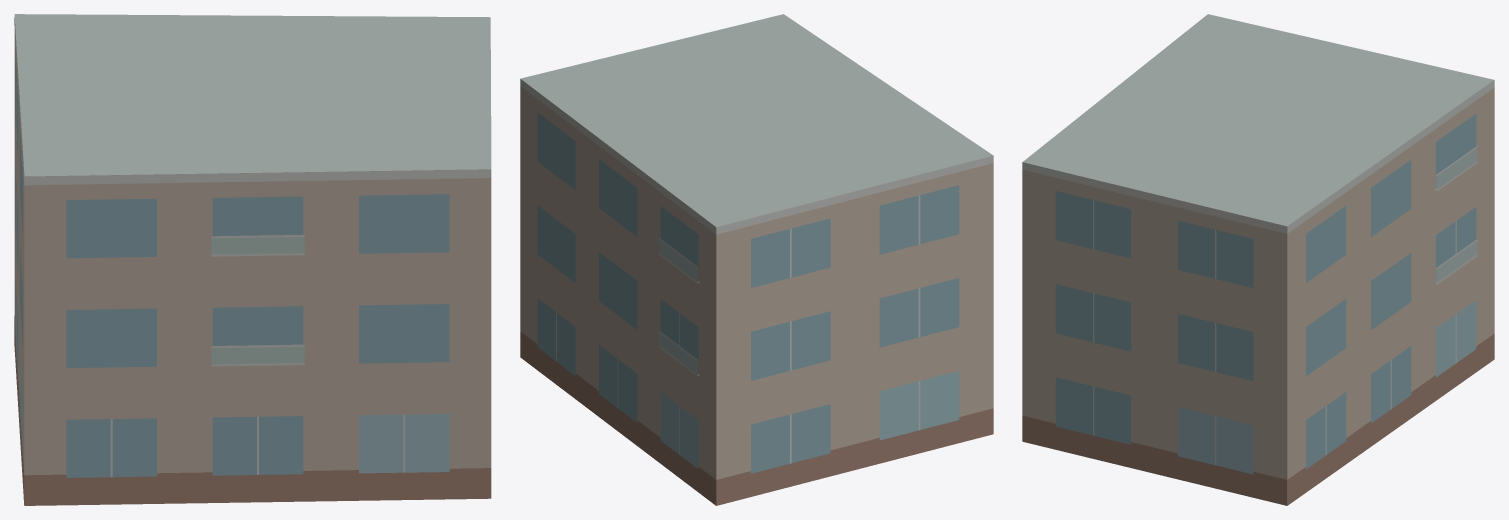
File: survey-upis-32888794.glb
The picture shows the model from 3 angles, left to right: view 1: azimuth 30°, elevation 25°; view 2: azimuth 150°, elevation 25°; view 3: azimuth 270°, elevation 25°; orthographic projection. The views are drawn at different scales.
Visible parts, largest first — view 1: survey-upis-32888794.tmp; view 2: survey-upis-32888794.tmp; view 3: survey-upis-32888794.tmp.
Part boxes in pixels (box(x1,y1,x2,y2)): survey-upis-32888794.tmp: box(14, 14, 491, 505); survey-upis-32888794.tmp: box(520, 14, 993, 505); survey-upis-32888794.tmp: box(1022, 14, 1494, 505).
Size of the model in its own units: 14.92 by 9.15 by 14.02.
